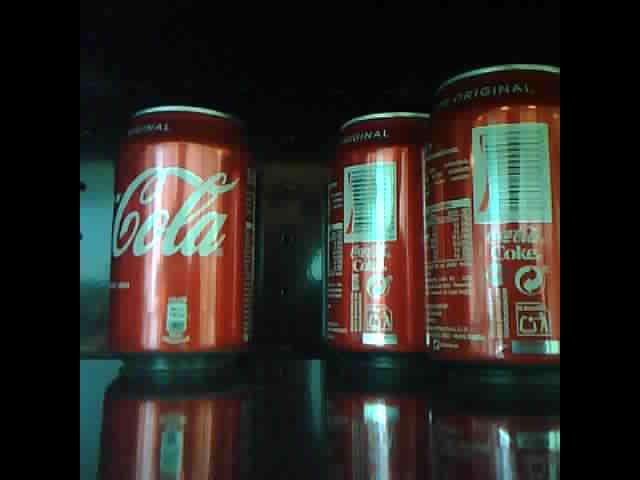coca cola: (425, 54, 560, 379), (110, 100, 260, 379), (329, 105, 432, 379)
